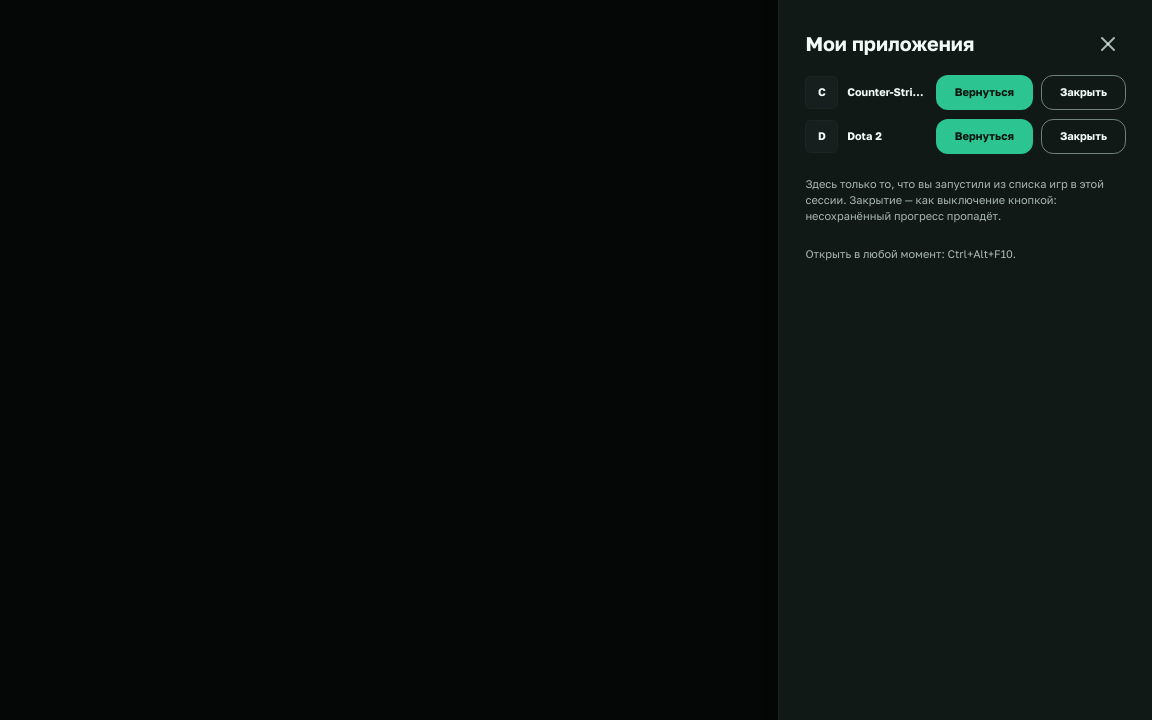
«Мои приложения» › «Закрыть» просит агента закрыть эту копию; строка блокируется, пока идёт закрытие
Click the button with aria-label "Закрыть: Counter-Strike 2" at x=1084, y=92, box [1041,75,1126,110]
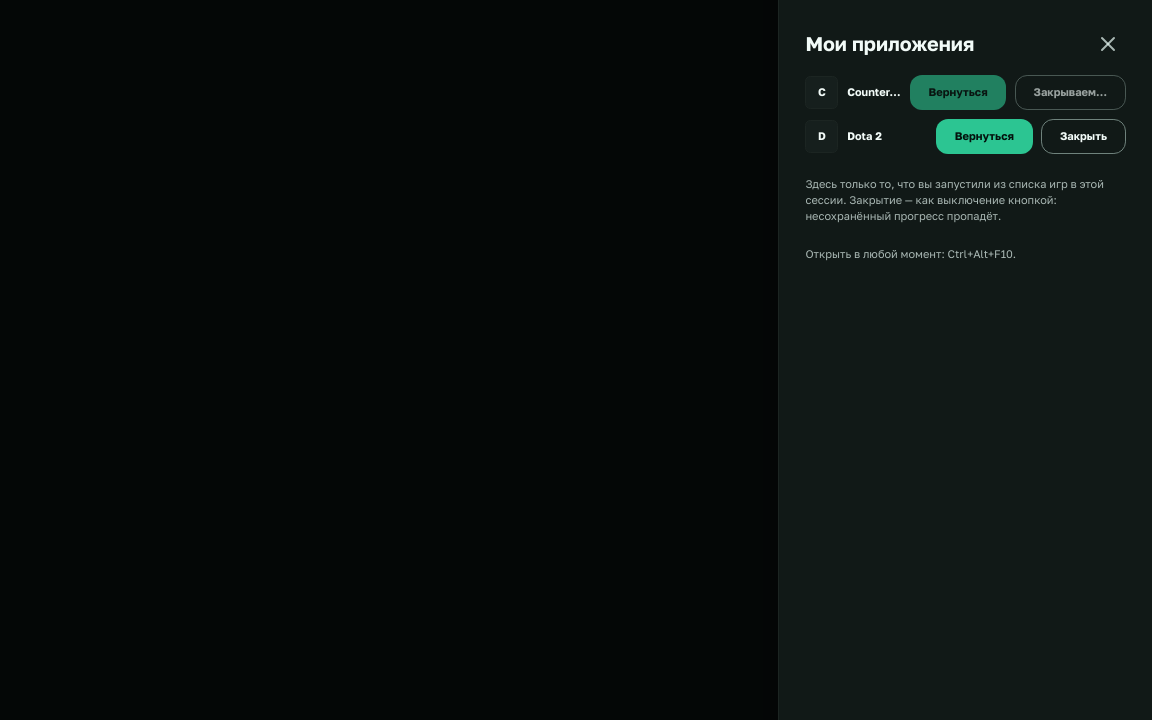
Expected: the button with aria-label "Закрыть: Dota 2" is enabled, [1041,119,1126,154]
Now the button with aria-label "Закрыть: Counter-Strike 2" is disabled, box [1015,75,1126,110]
